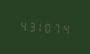four: (17, 18, 25, 32), (63, 21, 71, 35)
one: (36, 19, 44, 33)
seven: (54, 20, 62, 35)
three: (26, 18, 34, 33)
zero: (45, 20, 53, 34)
